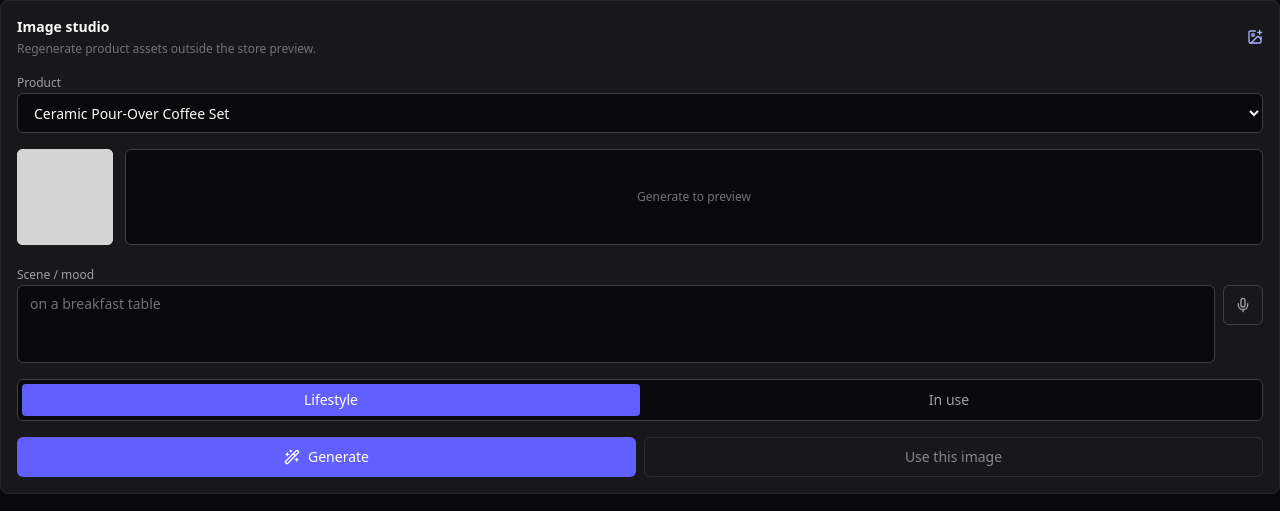
Test: ImageStudio › shows an animated status while generating
The width and height of the screenshot is (1280, 511).
What coordinates should you click on to do the following:
click the button "Generate"
I would click on:
 (326, 457)
Its box is x1=17 y1=437 x2=636 y2=477.
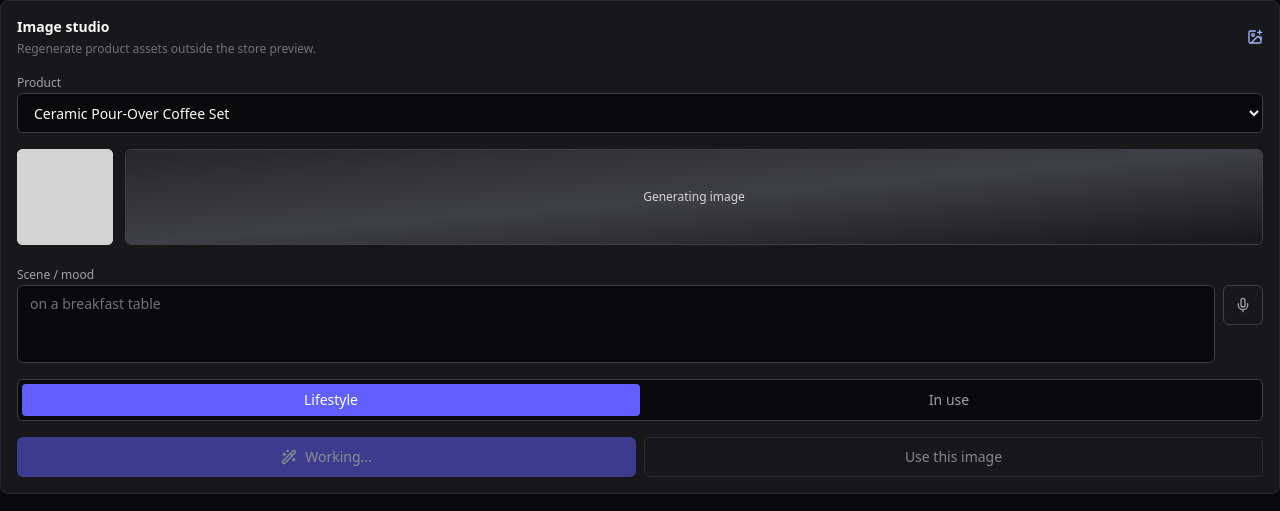
Check: the text with test id "image-generating-skeleton" reads "Generating image", box x1=643 y1=188 x2=745 y2=205
